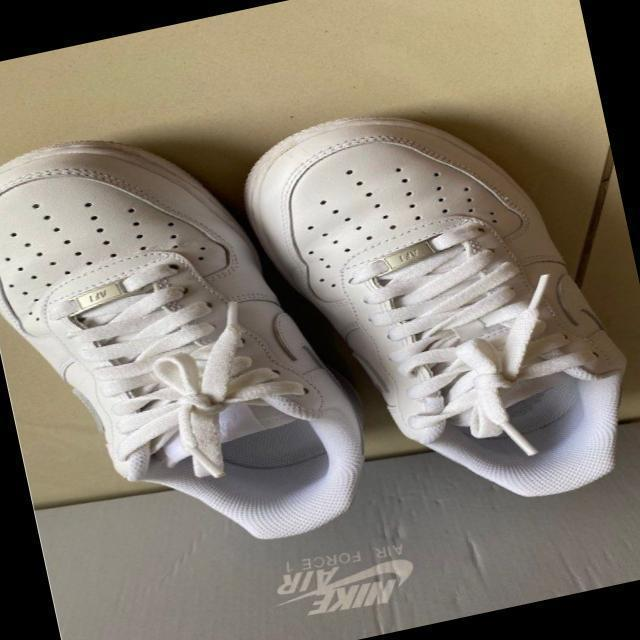nike original air force: (223, 68, 640, 547), (0, 91, 389, 587)
